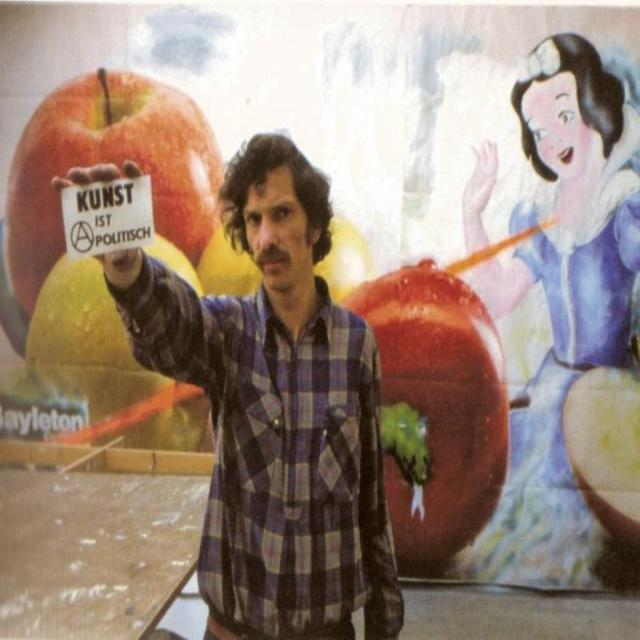Healty Apple: (334, 263, 528, 579), (12, 64, 216, 351), (22, 243, 204, 455), (195, 206, 375, 298), (562, 367, 640, 553)
